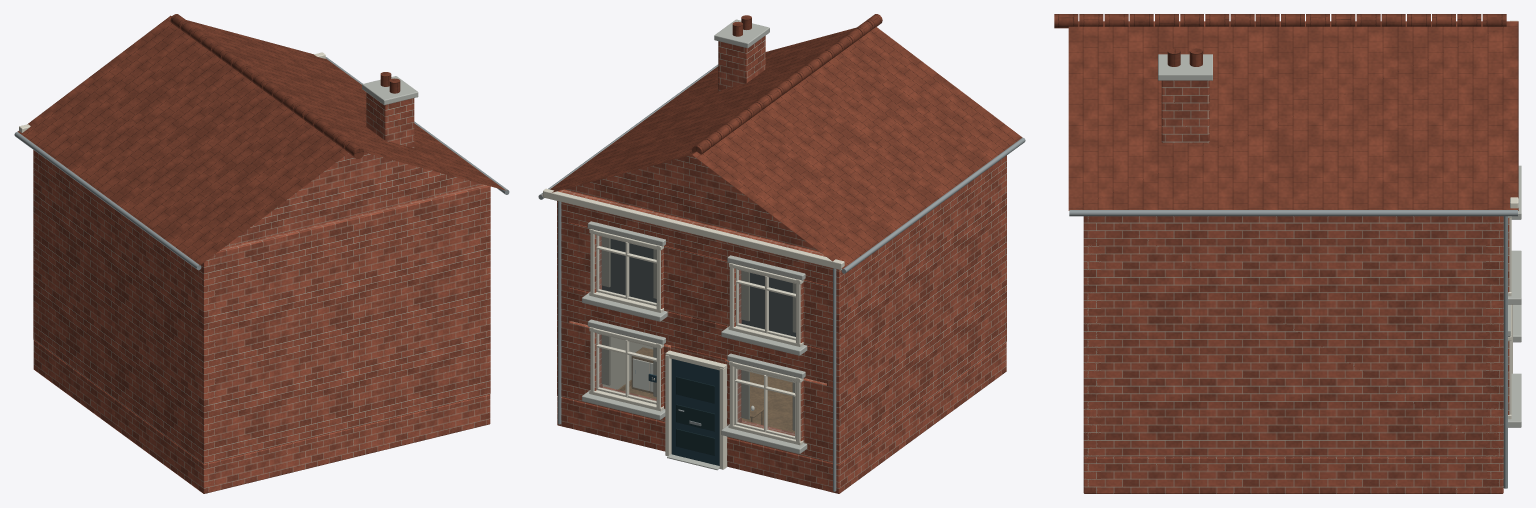
Rendered from burning_house24.glb.
The picture shows the model from 3 angles, left to right: view 1: azimuth 30°, elevation 25°; view 2: azimuth 150°, elevation 25°; view 3: azimuth 270°, elevation 25°; orthographic projection. The views are drawn at different scales.
Parts seen in each view (by area): view 1: MasonryShellSurface; view 2: MasonryShellSurface, DoorLeaf, WindowLeaf, WalkableFloor, InteriorLiningSurface, LivingSideboardSurface; view 3: MasonryShellSurface.
Boxes of the visible parts, x1=… form: MasonryShellSurface: x1=14, y1=14, x2=509, y2=493; MasonryShellSurface: x1=538, y1=14, x2=1025, y2=493; DoorLeaf: x1=671, y1=359, x2=719, y2=465; WindowLeaf: x1=734, y1=366, x2=795, y2=439; WalkableFloor: x1=624, y1=372, x2=794, y2=432; InteriorLiningSurface: x1=602, y1=337, x2=653, y2=390; LivingSideboardSurface: x1=631, y1=347, x2=653, y2=393; MasonryShellSurface: x1=1054, y1=14, x2=1521, y2=493.
Size of the model in its own units: 7.41 by 7.53 by 7.8.
Materials: 15 (7 with a texture image).
